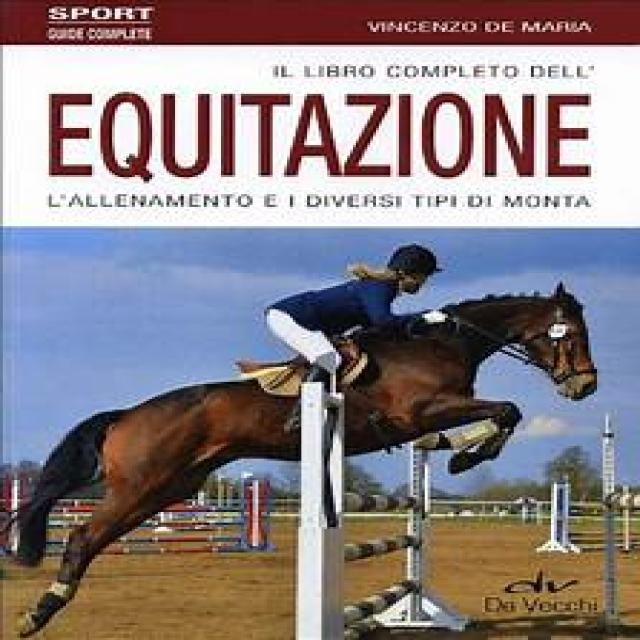horse: (6, 279, 597, 636)
